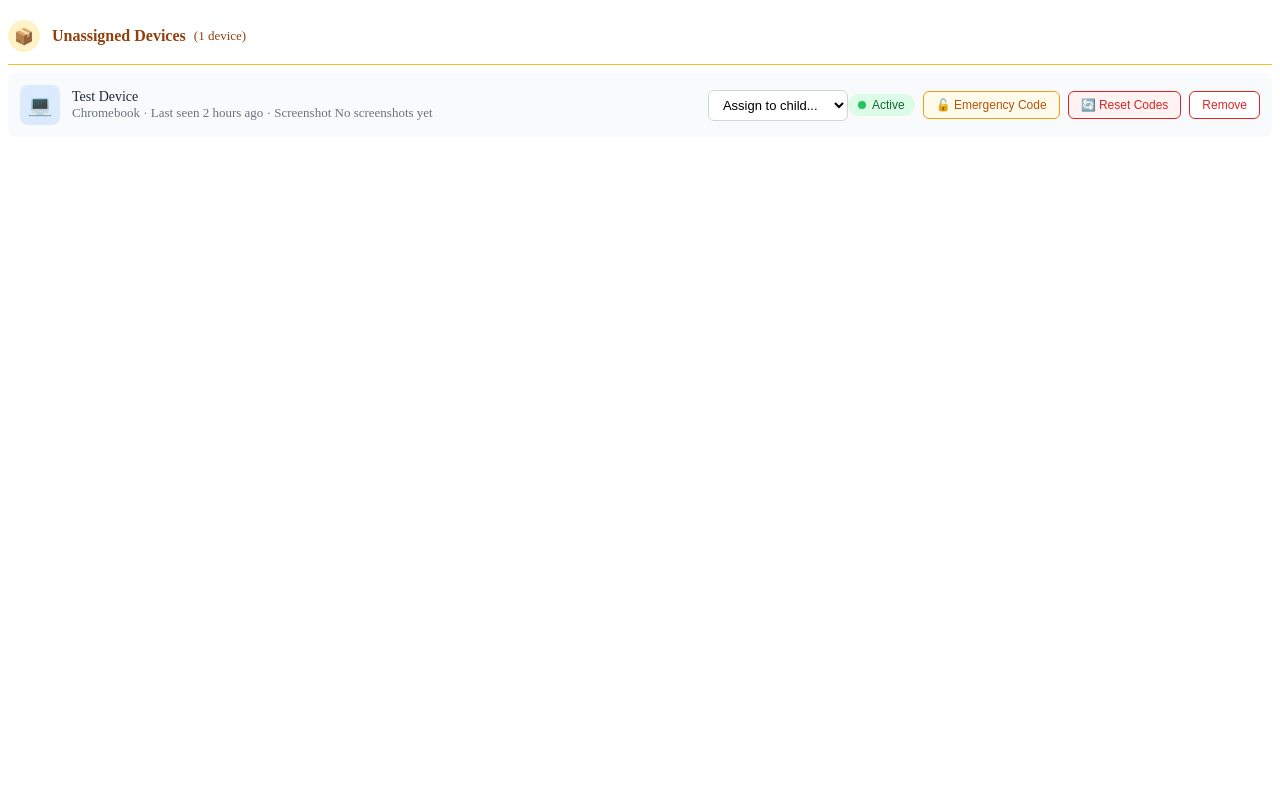
Scenario: StatusBadge Component - Story 19.2 › AC7: Click for health details › should open health modal when status badge is clicked
The image size is (1280, 800).
Click the button with aria-label "Device status:" at (881, 105), box [848,94,915,116]
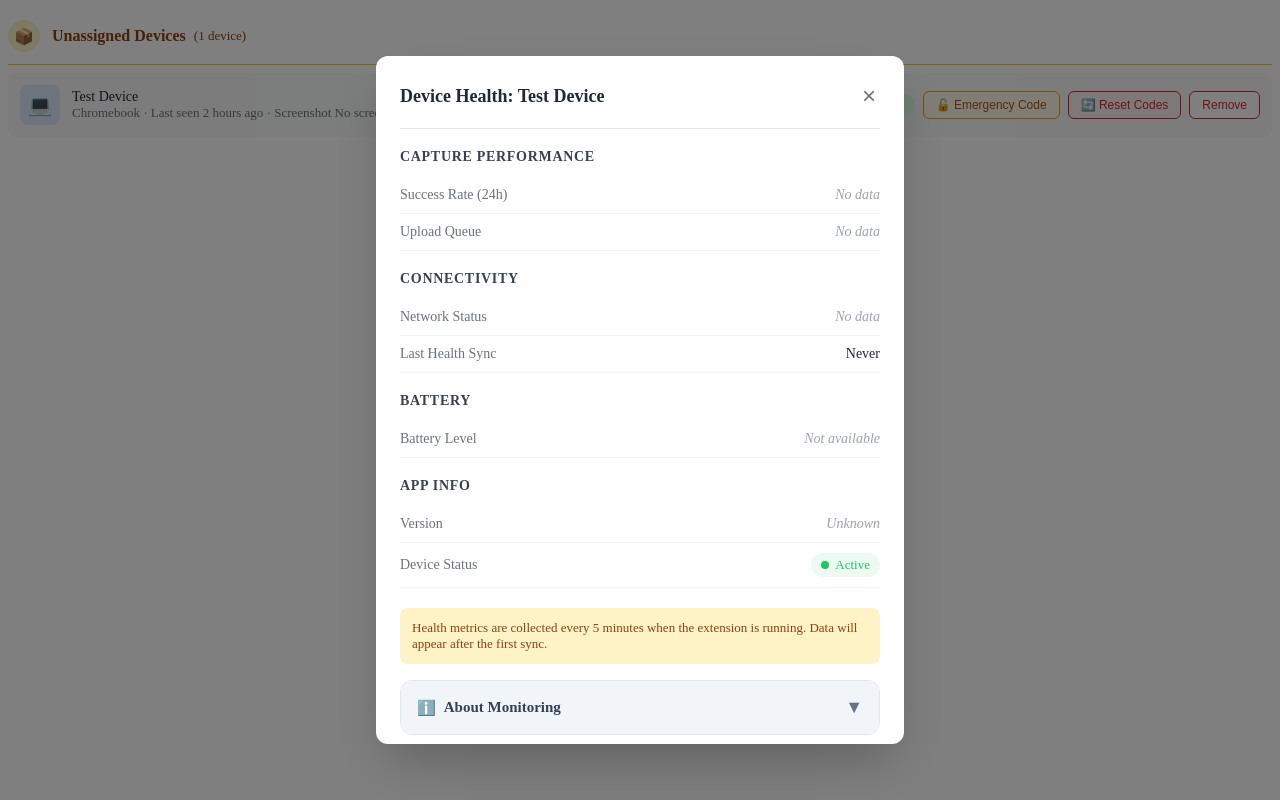
Result: the element with test id "health-modal" is shown at [376,56,904,744]
Result: the heading "Device Health: Test Device" is shown at [400,86,604,106]
